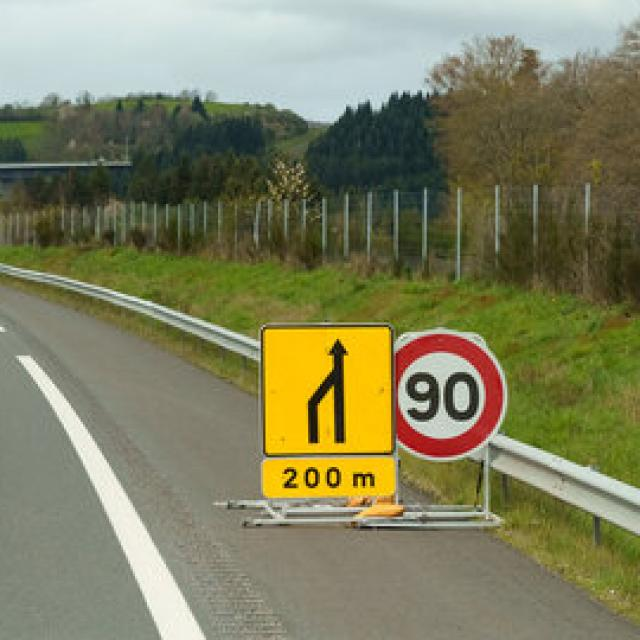Speed Limit -90-: (390, 324, 514, 468)
